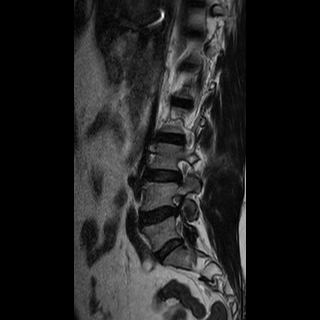RFS0: (166, 154, 193, 188)
